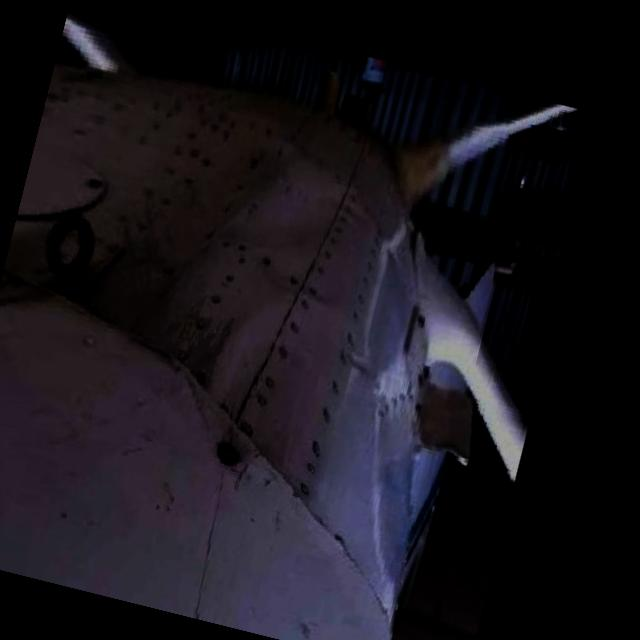dent: (186, 282, 336, 470)
